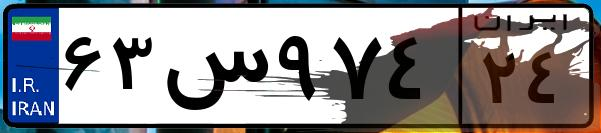2: (475, 38, 525, 113)
3: (110, 28, 158, 98)
4: (385, 28, 445, 110), (525, 38, 570, 115)
6: (57, 26, 110, 100)
7: (330, 28, 385, 110)
9: (270, 28, 330, 110)
س: (158, 20, 270, 120)
